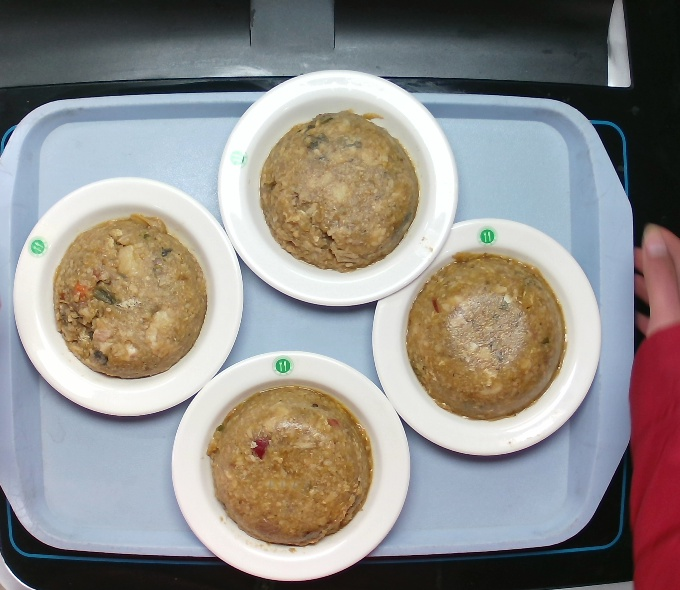wcq-YuDong: (387, 243, 580, 425), (42, 201, 218, 390), (202, 378, 379, 546), (252, 99, 420, 274)
